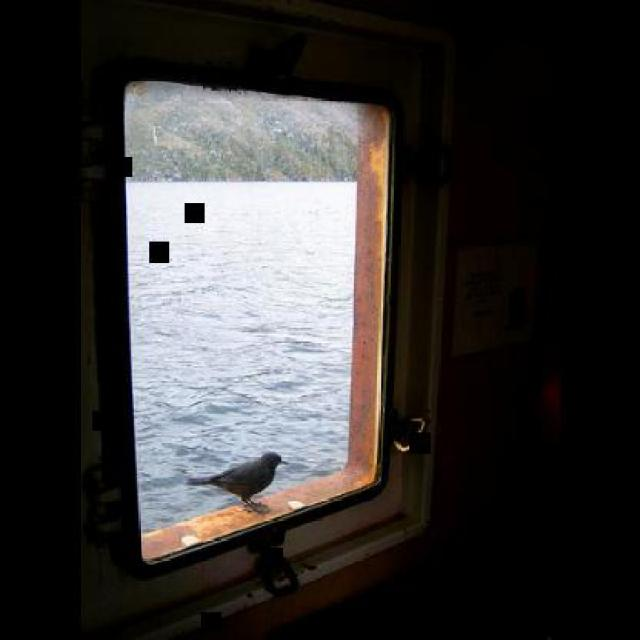unauthorized: (185, 449, 288, 514)
